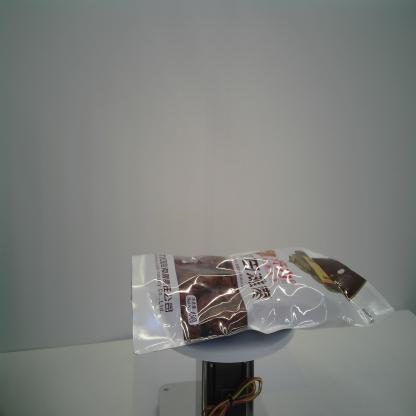Dried Food: (127, 244, 394, 358)
